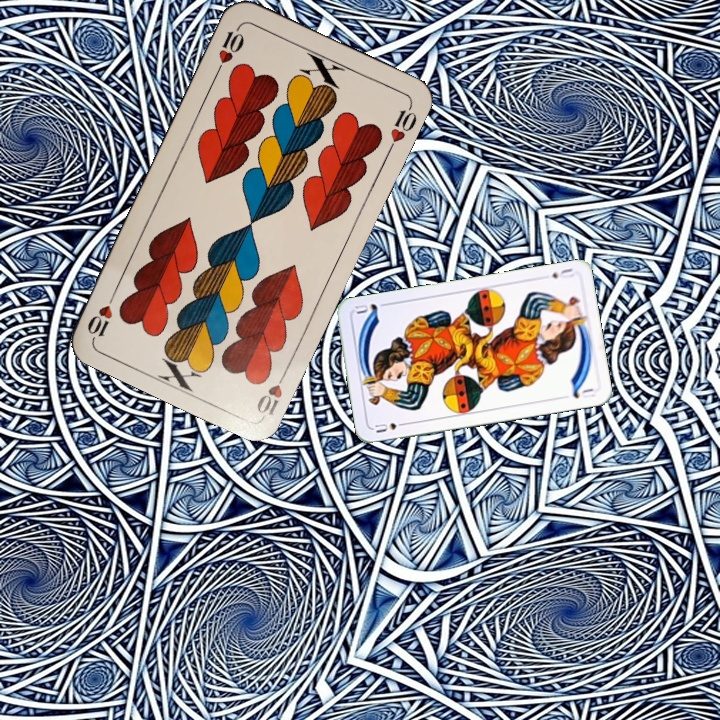H10: (252, 365, 291, 419), (212, 21, 247, 77)
SU: (371, 418, 410, 435), (548, 264, 576, 281)
